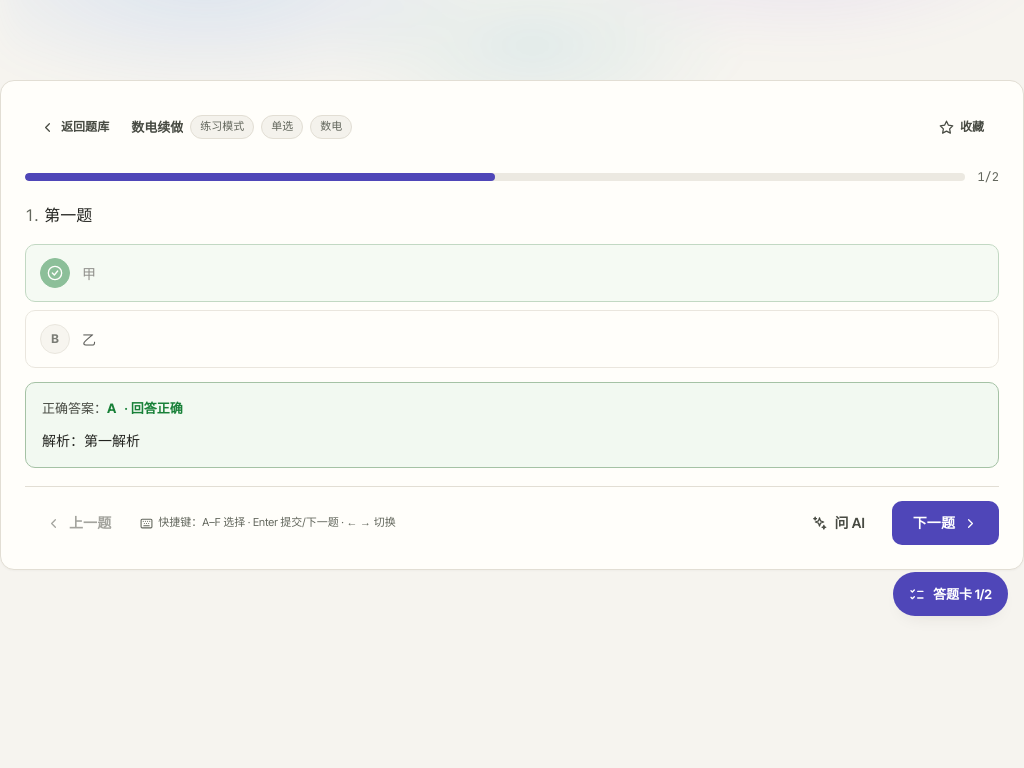
Test: 普通刷题持久会话前端 › 恢复会话时合并更新的本地待保存进度
The image size is (1024, 768).
Expected: the text "第一题" is shown, [44,205,92,225]
What coordinates should you click on to do the following:
click the button "下一题"
I would click on:
 (945, 523)
Its box is [892,501,999,545].
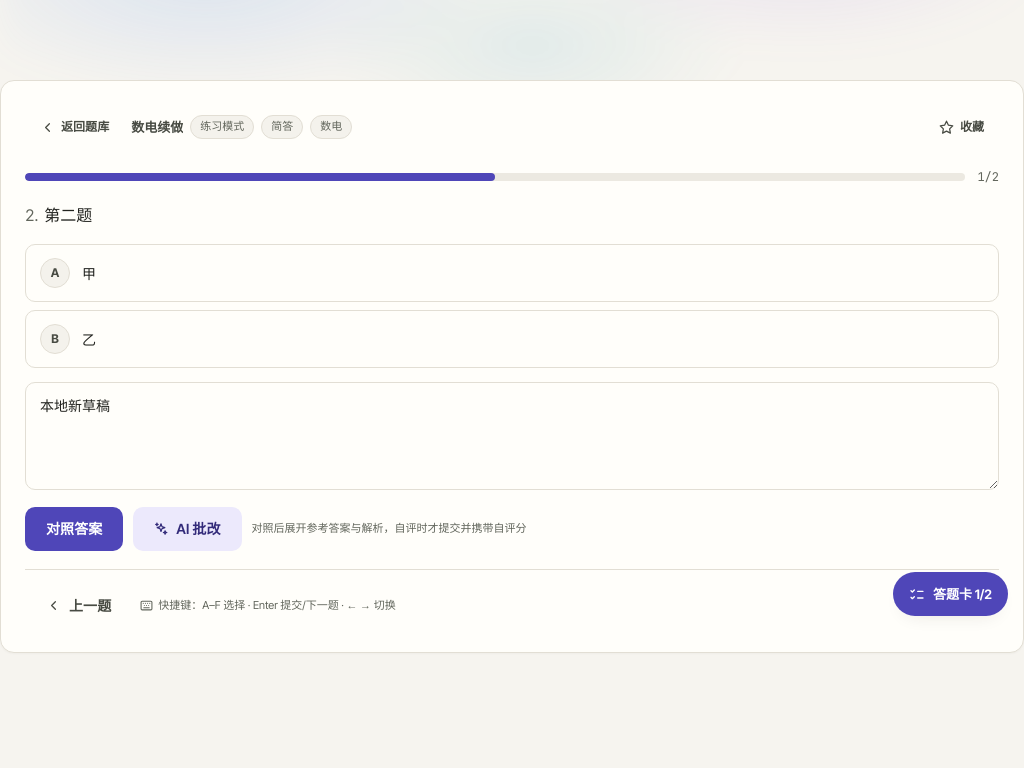
Result: the text box showing "本地新草稿" is shown at [25,382,999,490]
